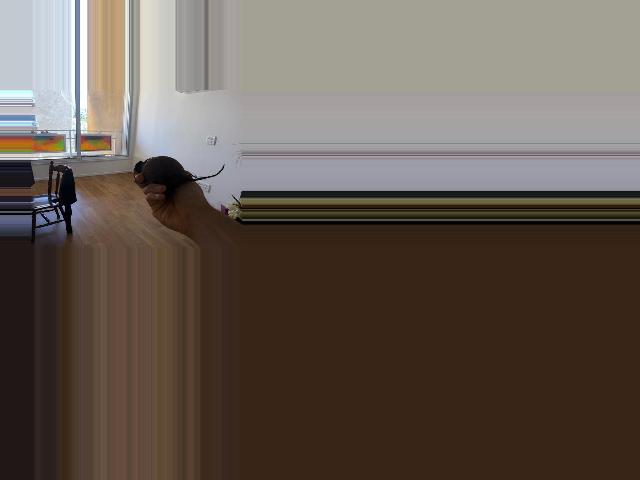beet: (132, 156, 223, 186)
